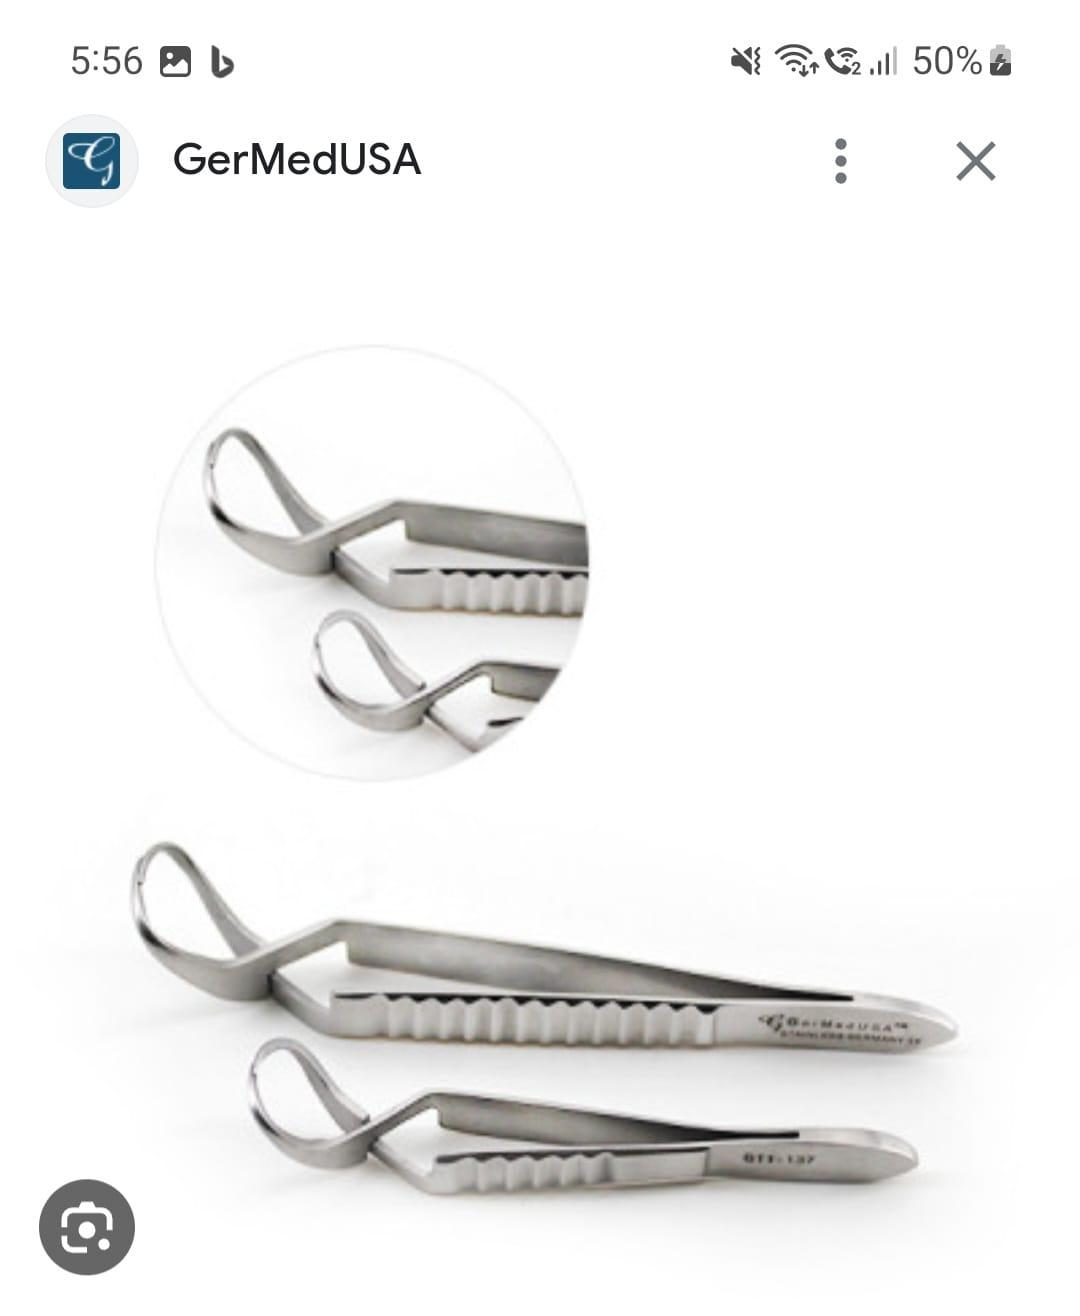Jones Towel Clamp: (118, 820, 974, 1068), (236, 1038, 978, 1200)
